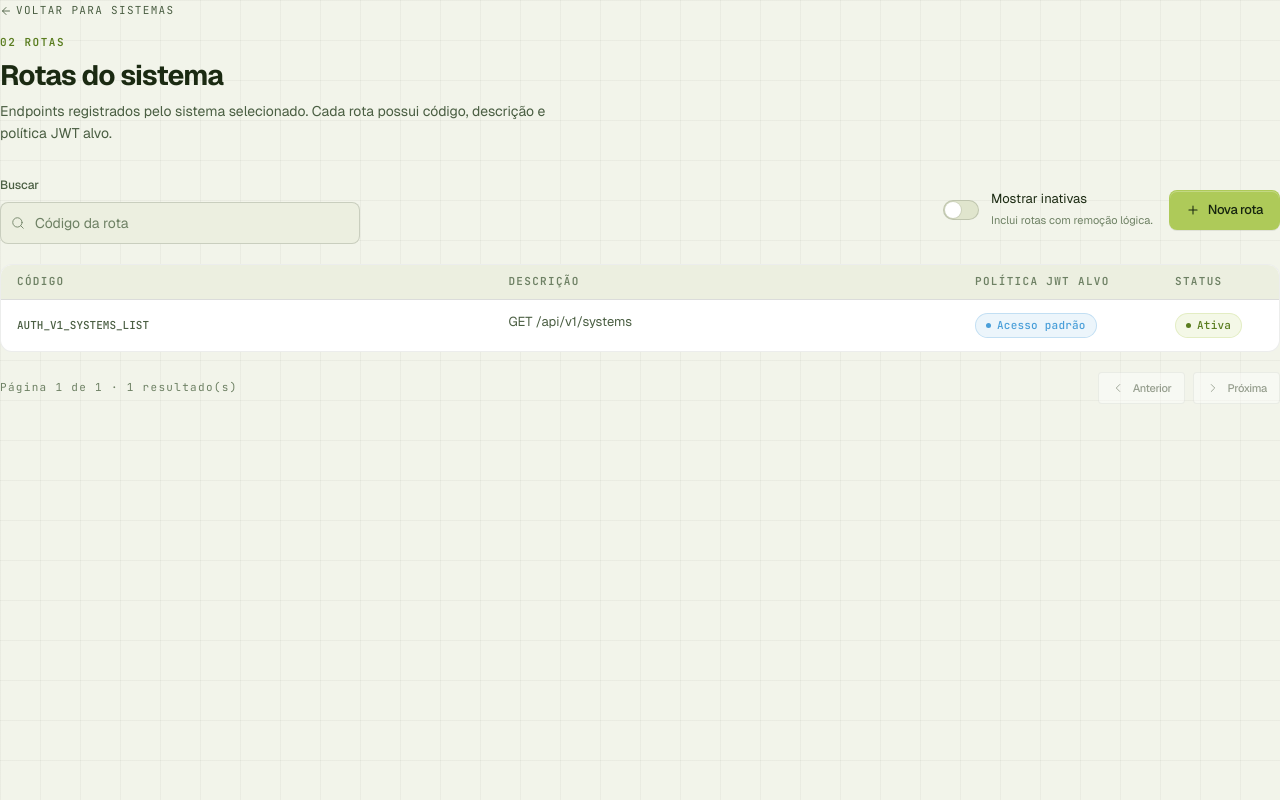
Test: RoutesPage — criação (Issue #63) › abertura e fechamento do modal › fechar via Esc não dispara POST
The width and height of the screenshot is (1280, 800).
Click the button with test id "routes-create-open" at point(1224, 210), box top-left (1169, 190), bottom-right (1279, 230)
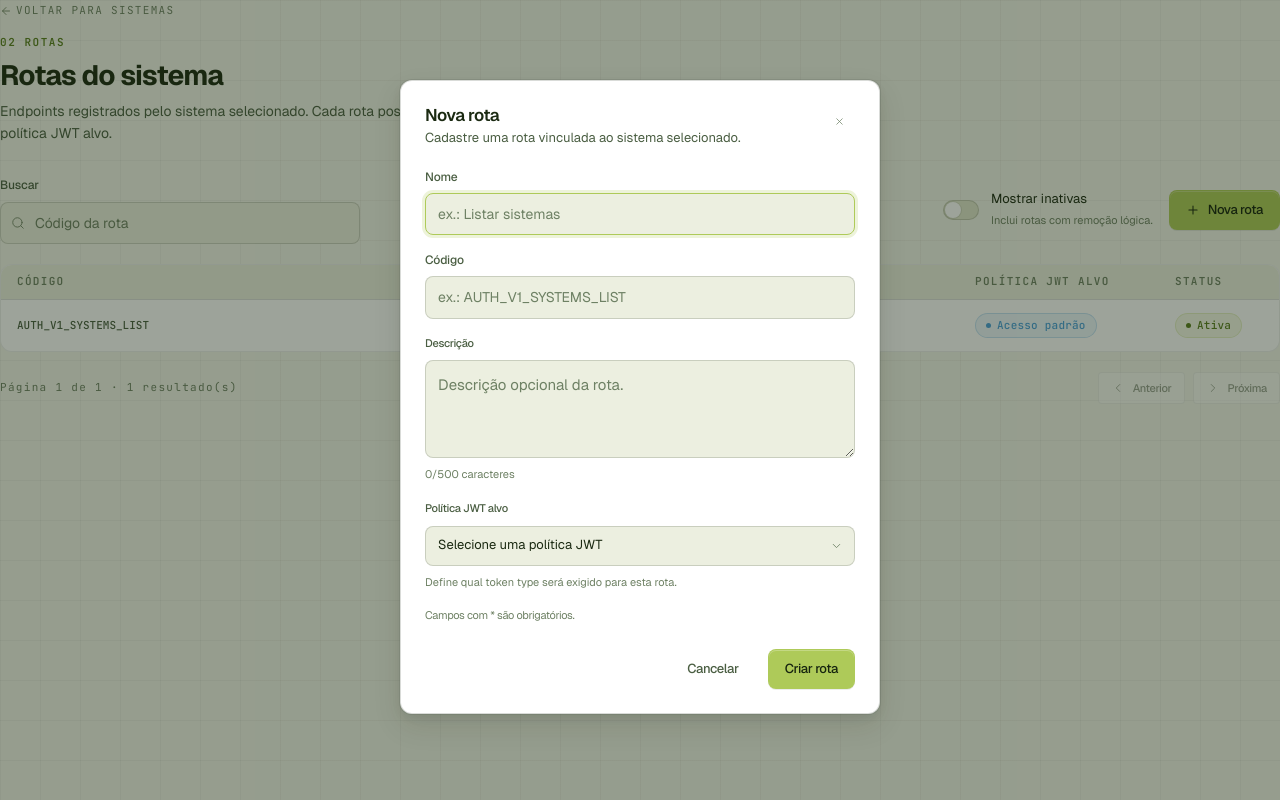
Check: the form with test id "new-route-form" is shown, box top-left (425, 168), bottom-right (855, 689)
Check: the dialog is shown, box top-left (400, 80), bottom-right (880, 714)
Press Escape
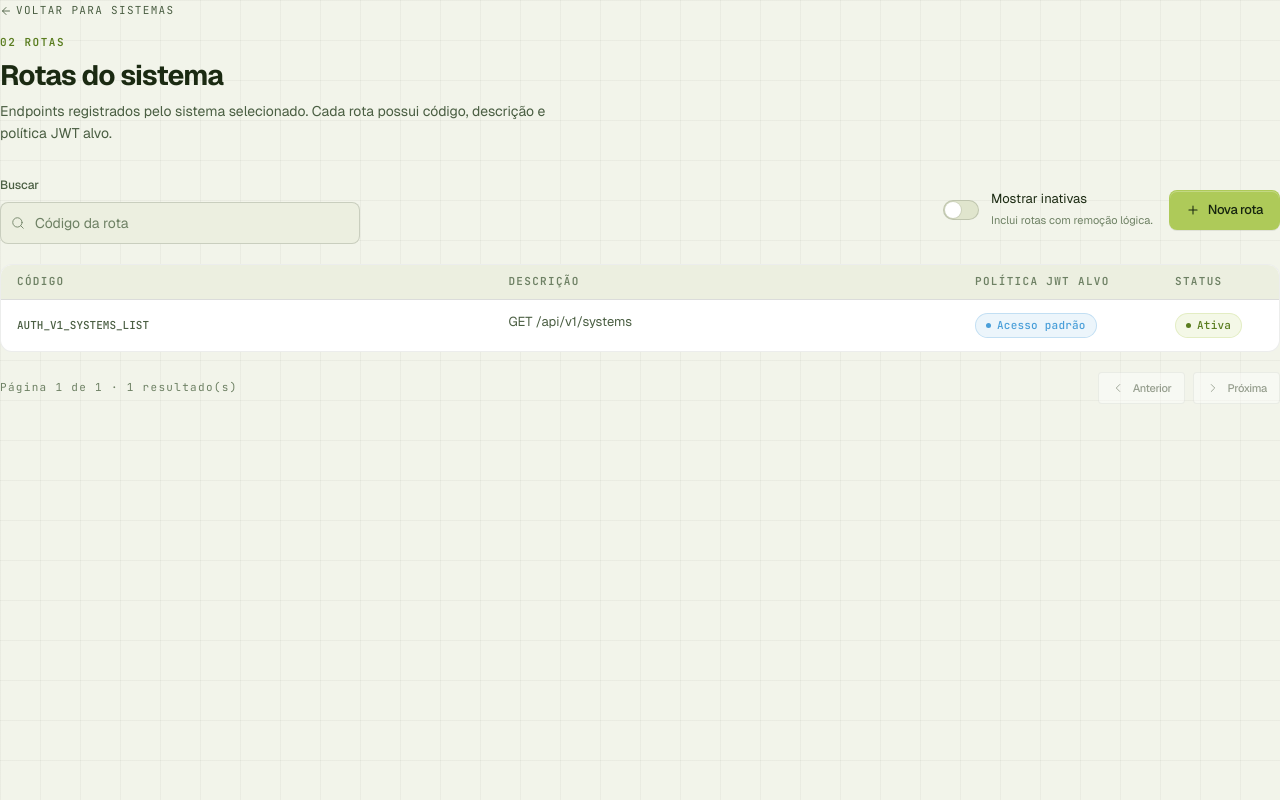
Check: the dialog is gone
